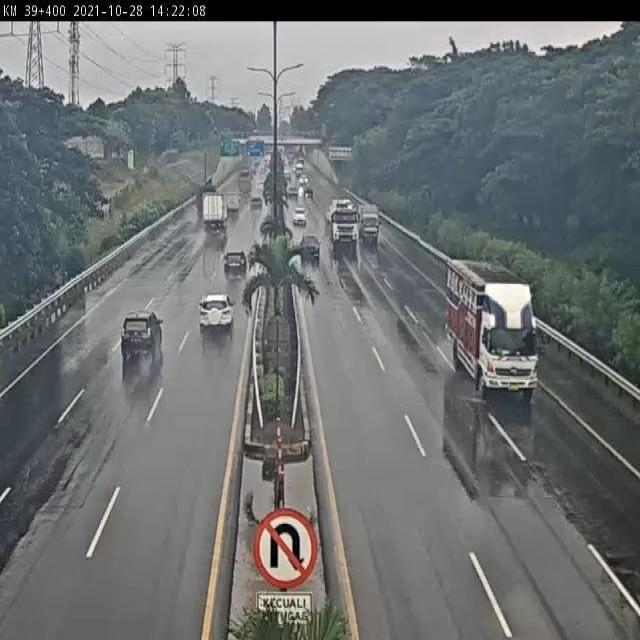car: (117, 308, 167, 365), (196, 293, 236, 336), (222, 248, 248, 276), (300, 233, 322, 260)
truck-l-: (443, 256, 544, 396), (325, 198, 359, 246)
truck-m-: (198, 192, 228, 235)
truck-s-: (360, 205, 382, 244)
